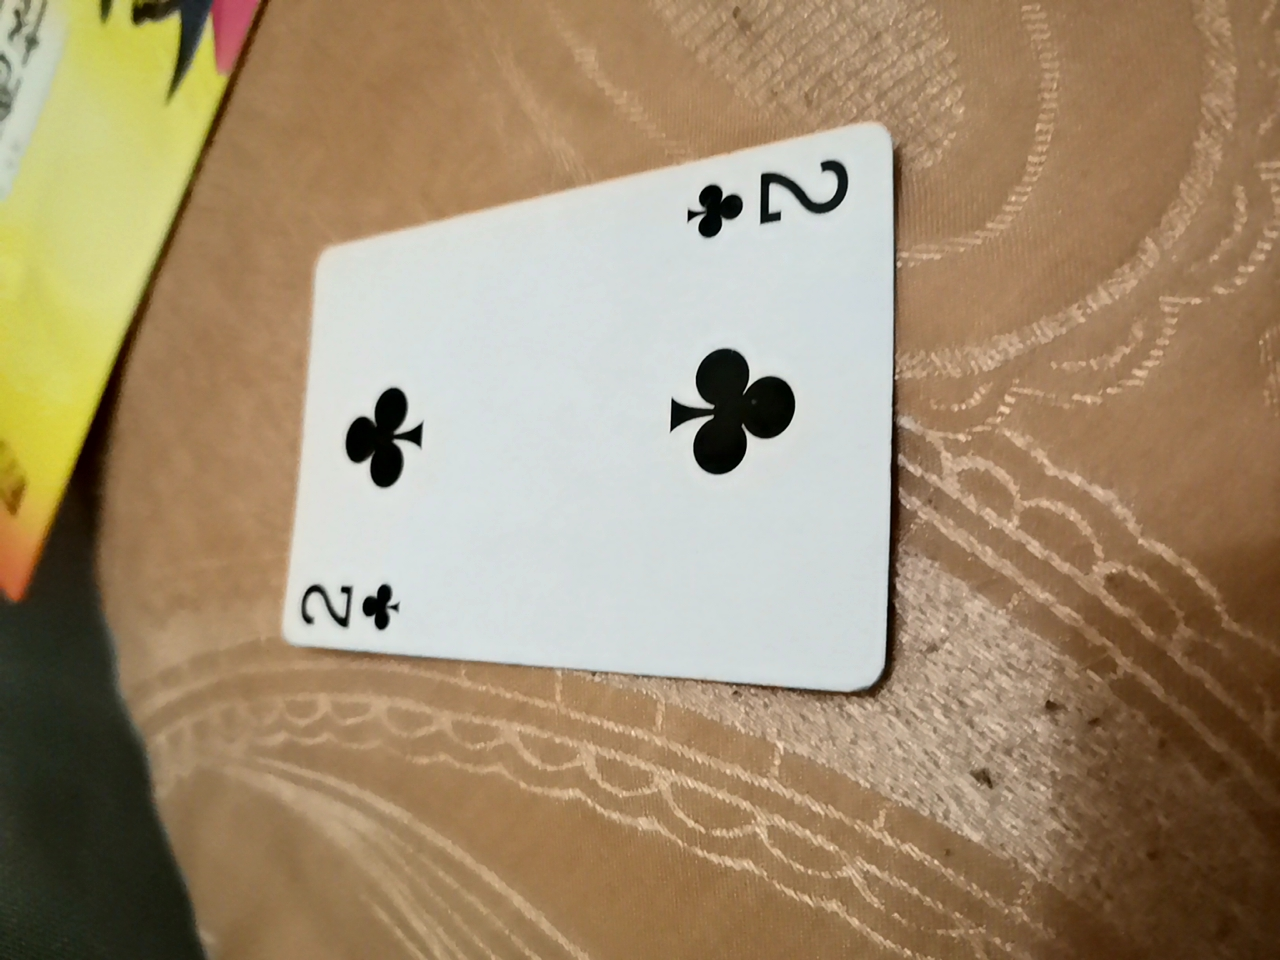mh 2: (267, 144, 895, 705)
